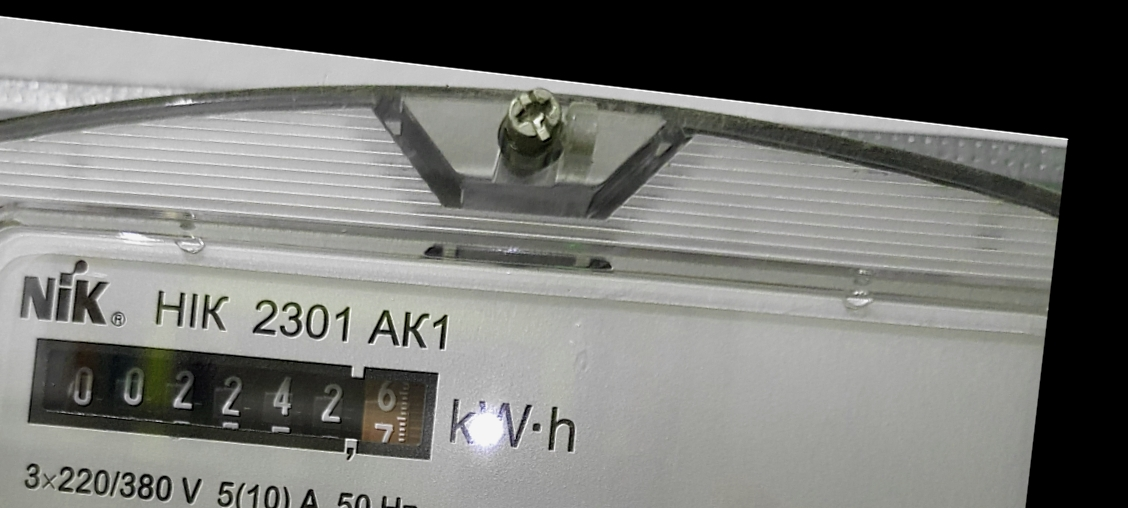0: (118, 362, 148, 407), (69, 362, 97, 408), (170, 366, 198, 411)
2: (317, 379, 346, 426), (218, 372, 247, 418)
4: (268, 372, 296, 418)
6: (373, 378, 401, 413)
7: (370, 420, 395, 445)
screen: (15, 315, 457, 485)
